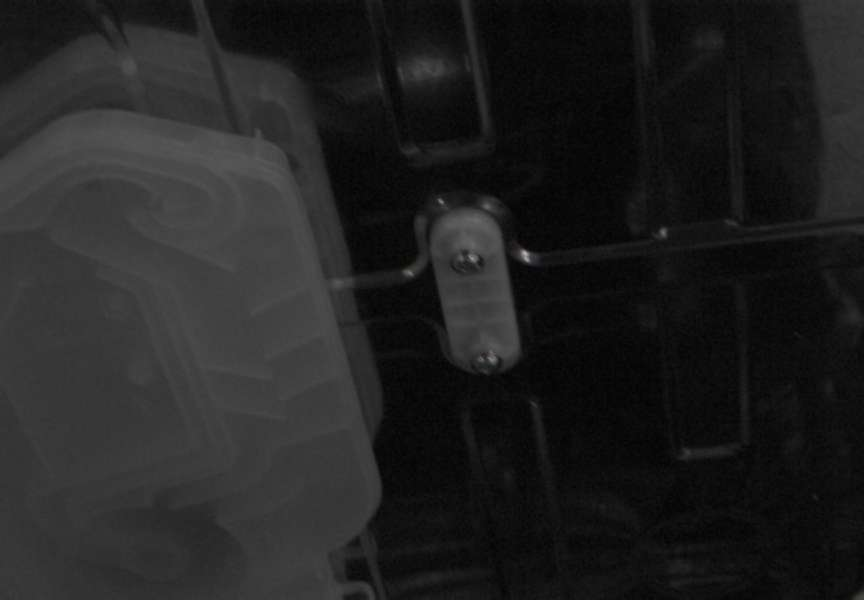screw: (451, 250, 485, 275), (471, 350, 502, 376)
